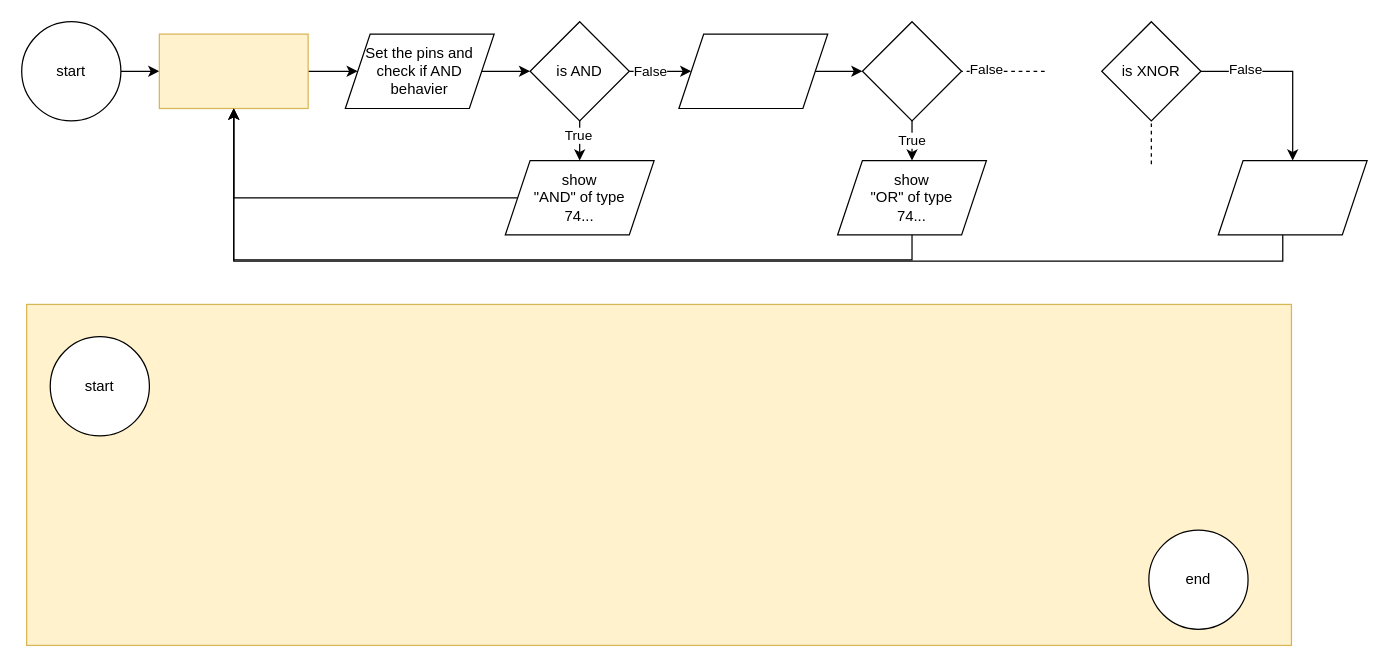
Image size: 1389x667. Some labels were removed from this diagram. Each missing label, with the centre of its shape:
is OR: pixel 911 70
Set the pins and check if OR behavier: pixel 753 70
show "UNKNOWN": pixel 1292 197
wait till button is pressed: pixel 233 70
